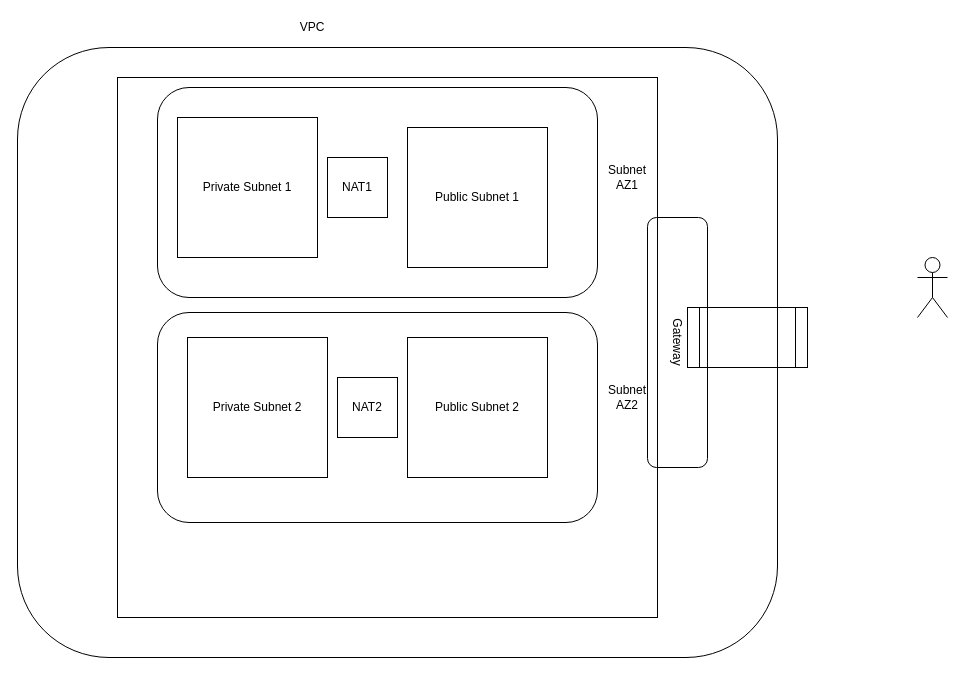
Some shapes in this 965 by 675 pixel diagram are drawn without their labels. Here are the shapes that lost their labels. From the top down, the centre of each, then its label:
At (x=932, y=287): "User".
At (x=747, y=337): "EIP".
